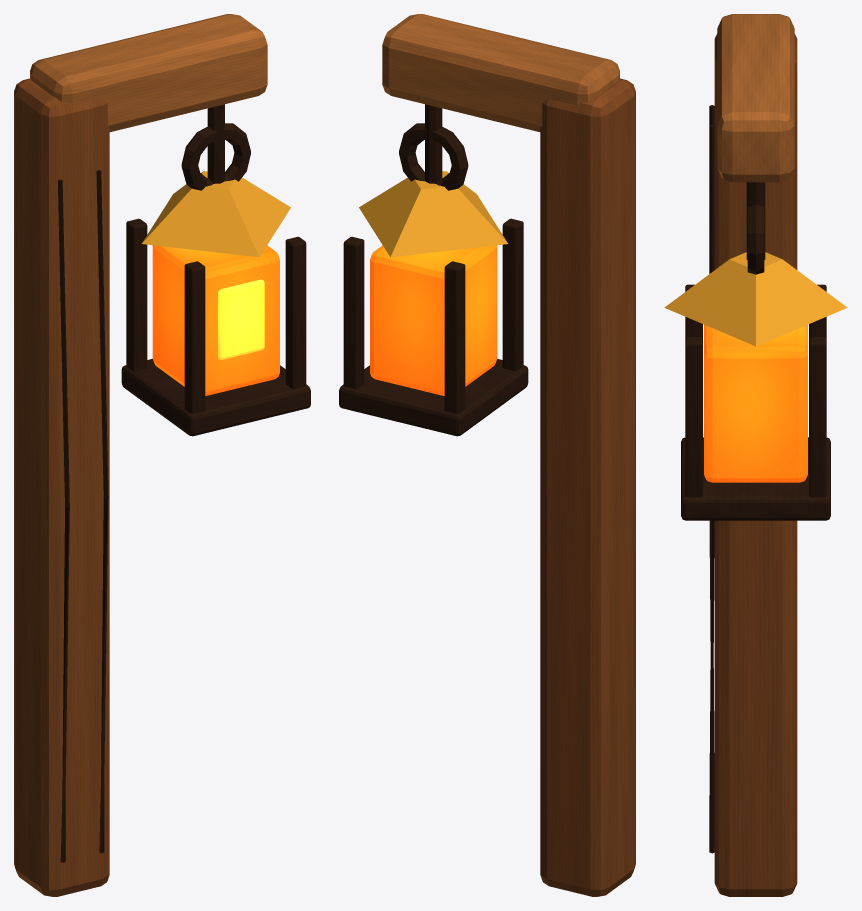
File: forest_lantern_post.glb
3 renders of one model, left to right at view 1: azimuth 30°, elevation 25°; view 2: azimuth 150°, elevation 25°; view 3: azimuth 270°, elevation 25°, orthographic. The views are drawn at different scales.
Parts seen in each view (by area): view 1: Woodland lantern upright, Woodland lantern bracket, Lantern amber glass, Lantern roof, Lantern bottom, Lantern post grain.001, Lantern post grain, Lantern hot glass inset, Lantern corner, Lantern corner.002, Lantern corner.001, Lantern hanger (+1 smaller); view 2: Woodland lantern upright, Woodland lantern bracket, Lantern amber glass, Lantern roof, Lantern bottom, Lantern corner.001, Lantern corner.003, Lantern corner, Lantern hanger, Lantern chain; view 3: Woodland lantern upright, Lantern amber glass, Woodland lantern bracket, Lantern roof, Lantern bottom, Lantern corner.002, Lantern corner.003, Lantern post grain.001, Lantern hanger, Lantern chain.
Part boxes in pixels (x1,y1,x2,y2): Woodland lantern upright: (14, 78, 109, 896); Woodland lantern bracket: (30, 14, 267, 131); Lantern amber glass: (152, 245, 279, 395); Lantern roof: (141, 171, 290, 257); Lantern bottom: (121, 358, 310, 436); Lantern post grain.001: (96, 170, 108, 853); Lantern post grain: (58, 179, 69, 862); Lantern hot glass inset: (218, 279, 264, 359); Lantern corner: (184, 261, 205, 413); Lantern corner.002: (285, 236, 306, 389); Lantern corner.001: (126, 218, 147, 371); Lantern hanger: (181, 123, 250, 190); Woodland lantern upright: (540, 78, 635, 896); Woodland lantern bracket: (382, 14, 619, 131); Lantern amber glass: (370, 245, 497, 395); Lantern roof: (359, 171, 508, 257); Lantern bottom: (339, 358, 528, 436); Lantern corner.001: (444, 261, 465, 413); Lantern corner.003: (343, 236, 364, 389); Lantern corner: (502, 218, 523, 371); Lantern hanger: (399, 123, 468, 190); Lantern chain: (425, 104, 442, 183); Woodland lantern upright: (714, 33, 797, 896); Lantern amber glass: (704, 324, 807, 482); Woodland lantern bracket: (717, 14, 794, 182); Lantern roof: (664, 252, 847, 346); Lantern bottom: (681, 437, 830, 520); Lantern corner.002: (685, 337, 702, 497); Lantern corner.003: (809, 337, 826, 497); Lantern post grain.001: (709, 125, 714, 853); Lantern hanger: (747, 205, 764, 274); Lantern chain: (746, 182, 765, 259).
Bounding box in the file's own units: 0.545 × 1.62 × 0.31.
6 materials, 5 textured.
